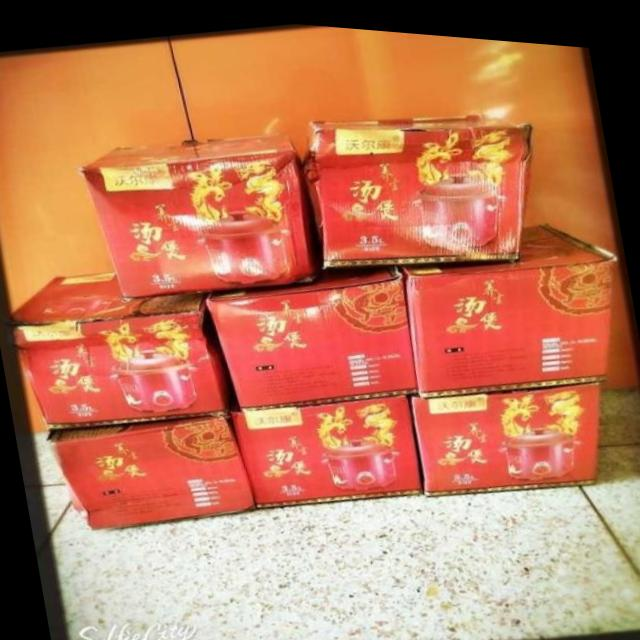box: (77, 128, 319, 297), (397, 214, 616, 391), (302, 101, 532, 262), (12, 270, 232, 429), (205, 258, 418, 408), (45, 407, 254, 528), (229, 386, 422, 504), (410, 371, 602, 488)
